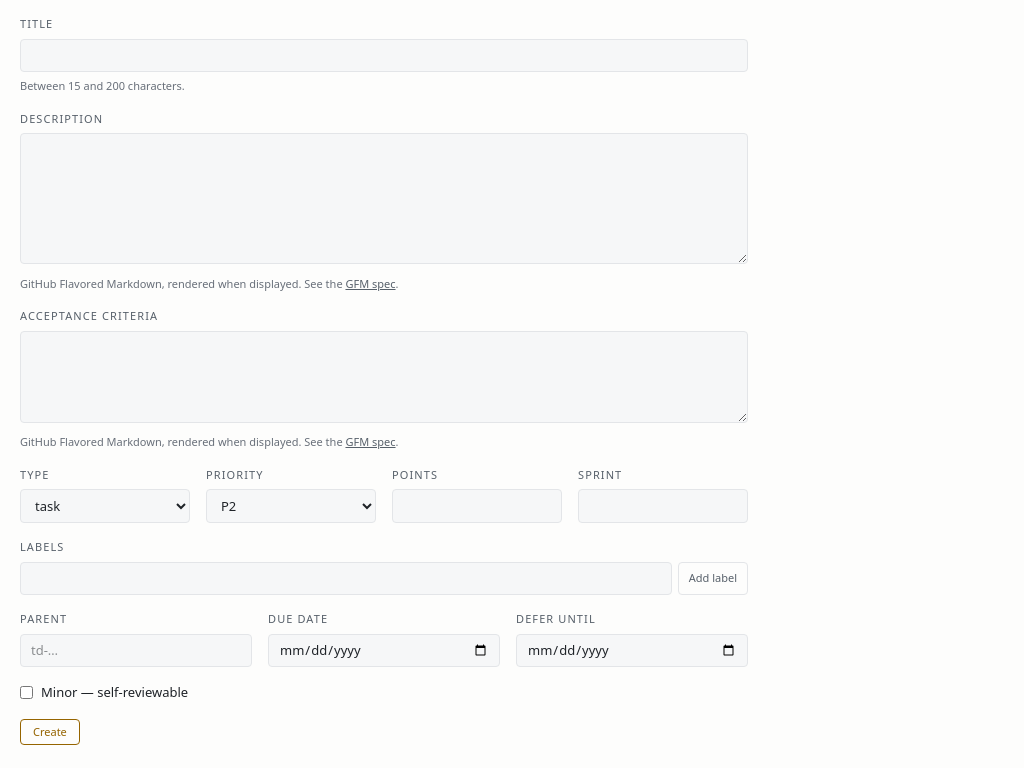
Scenario: IssueForm › shows td's validation error when it names no field
Type "A sufficiently long issue title" into the field labelled "Title" at (384, 55), box [20, 38, 748, 72]
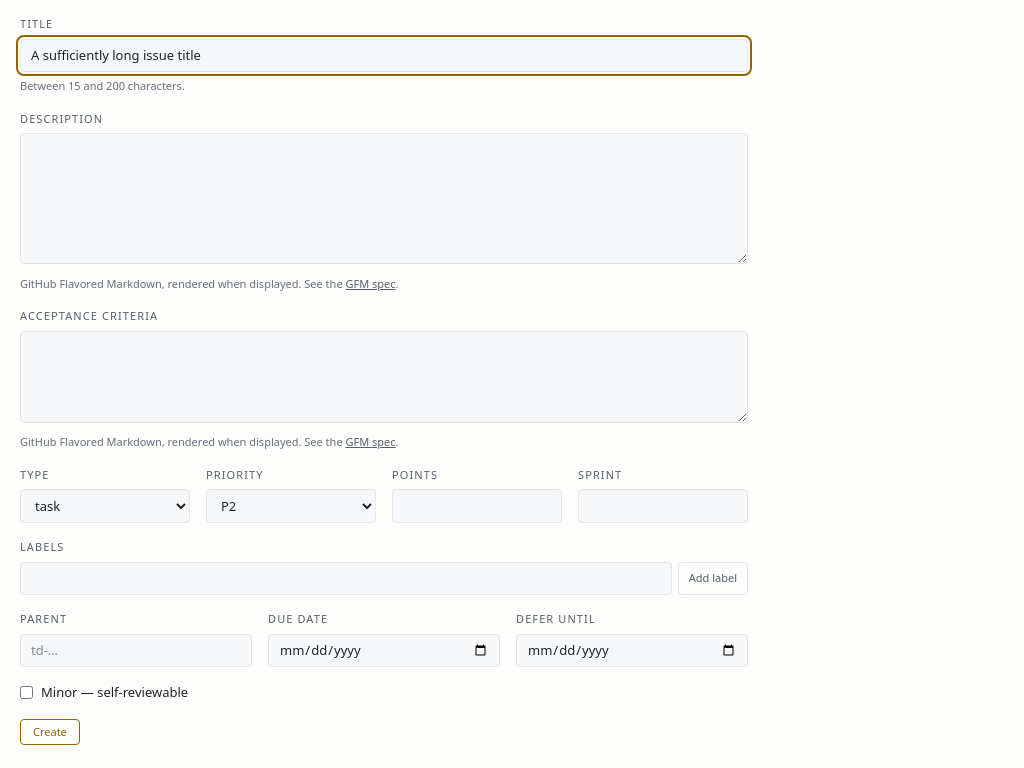
Click the button "Create" at (50, 732), box [20, 718, 80, 745]
(page scrolled)
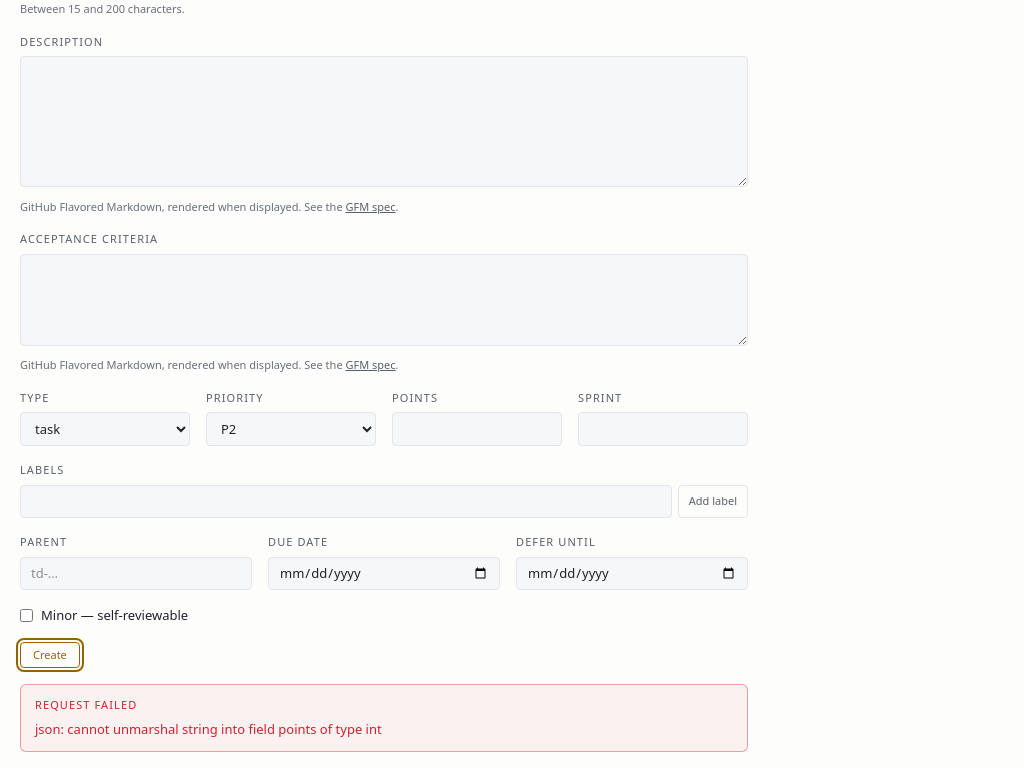
Now the text "json: cannot unmarshal string into field points of type int" is shown, box [35, 720, 382, 738]
